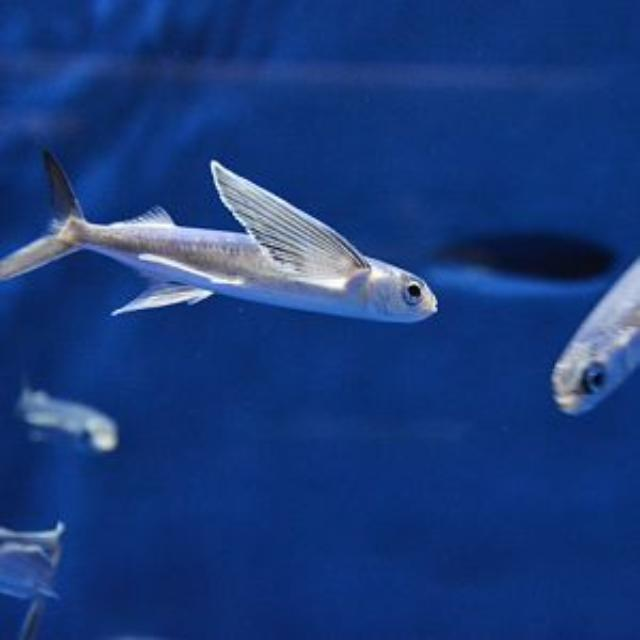Mulut: (416, 284, 466, 334)
Sirip Dada: (198, 151, 370, 293)
Sirip Ekor: (0, 138, 91, 304)
Sirip Perut: (102, 244, 252, 336)
Sirip Punggung: (109, 197, 179, 233)
